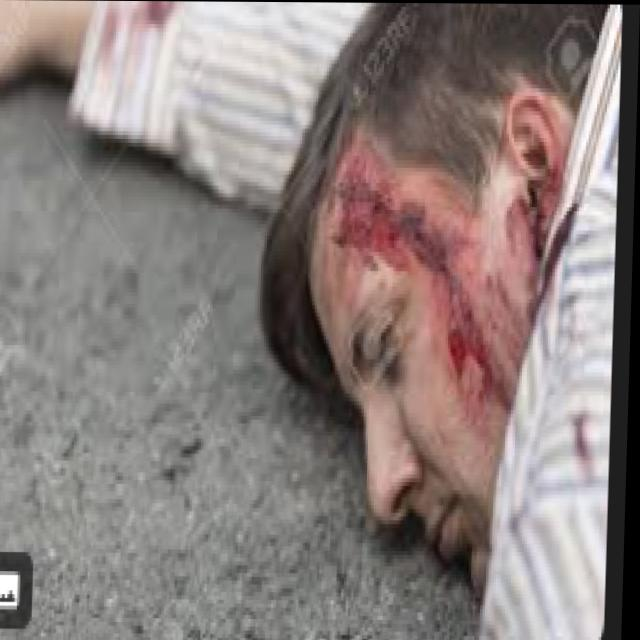injury: (249, 3, 617, 593), (327, 131, 514, 415), (508, 171, 563, 279)
